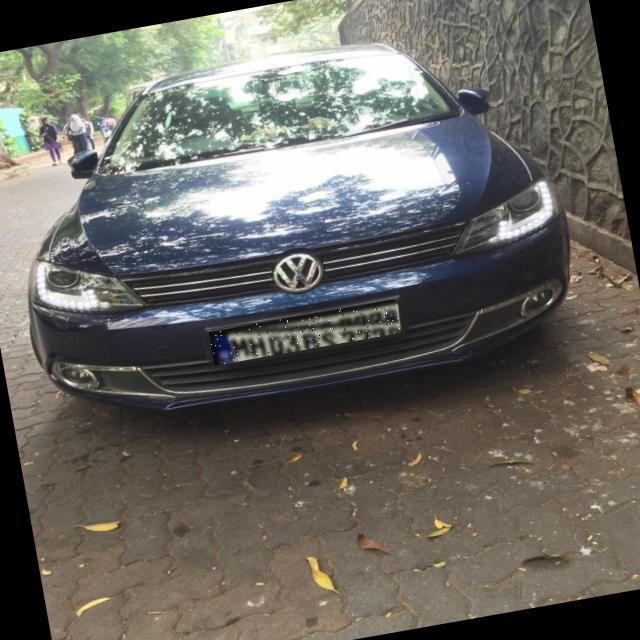Plate: (210, 300, 402, 366)
